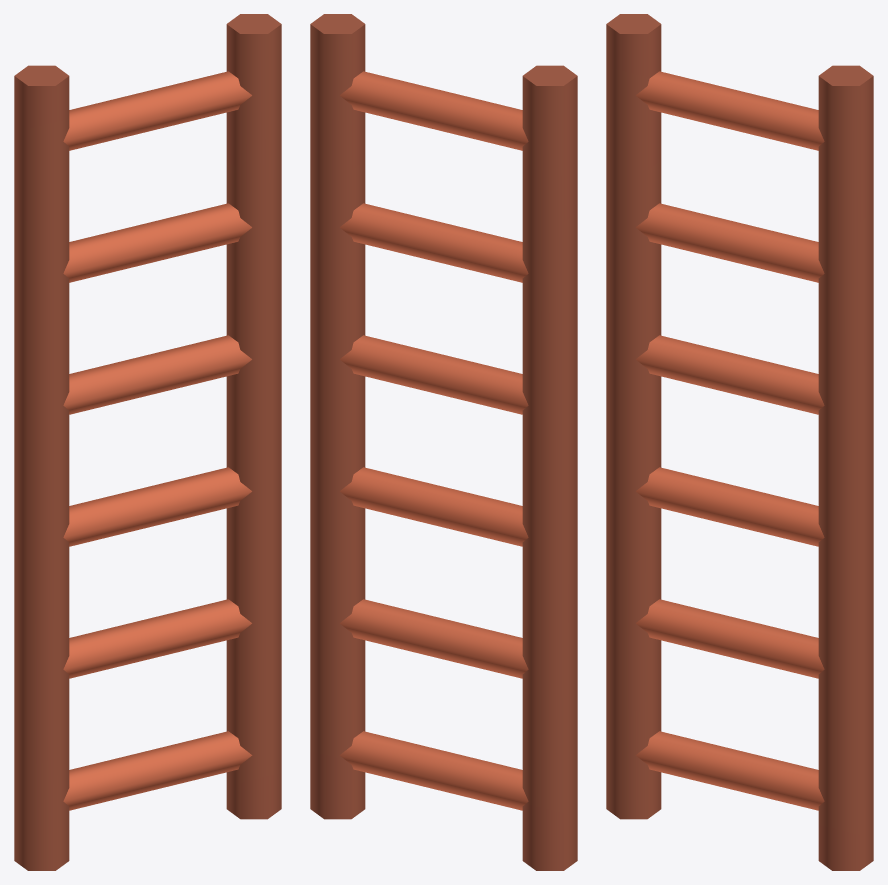
The model's file is ladder_001.glb.
3 renders of one model, left to right at view 1: azimuth 30°, elevation 25°; view 2: azimuth 150°, elevation 25°; view 3: azimuth 330°, elevation 25°, orthographic.
Parts seen in each view (by area): view 1: ladder_001; view 2: ladder_001; view 3: ladder_001.
Boxes of the visible parts, x1=… form: ladder_001: x1=14, y1=14, x2=281, y2=870; ladder_001: x1=310, y1=14, x2=577, y2=870; ladder_001: x1=606, y1=14, x2=873, y2=870.
Bounding box in the file's own units: 0.6759 × 2 × 0.1271.
Materials: 1 (1 with a texture image).
